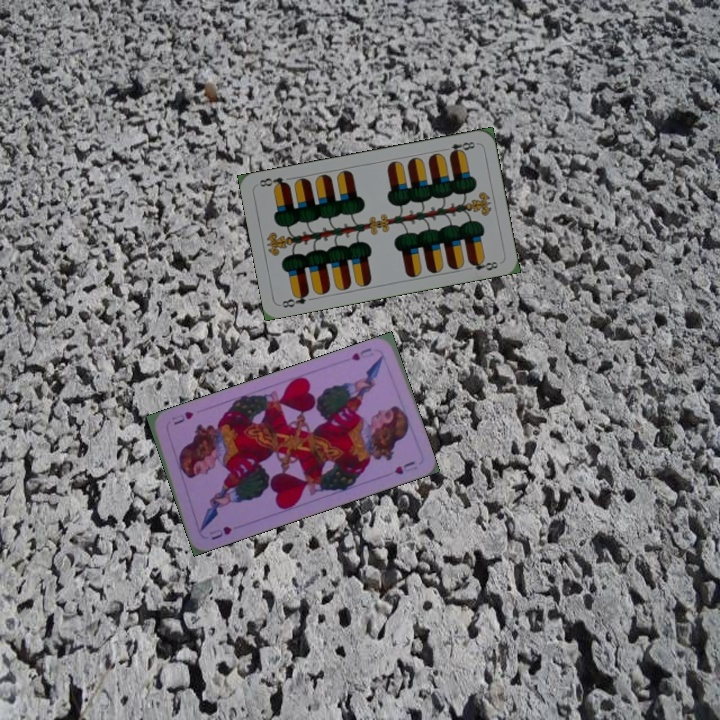E8: (278, 288, 312, 310), (446, 138, 480, 158)
HU: (347, 343, 378, 363), (205, 522, 234, 543)
